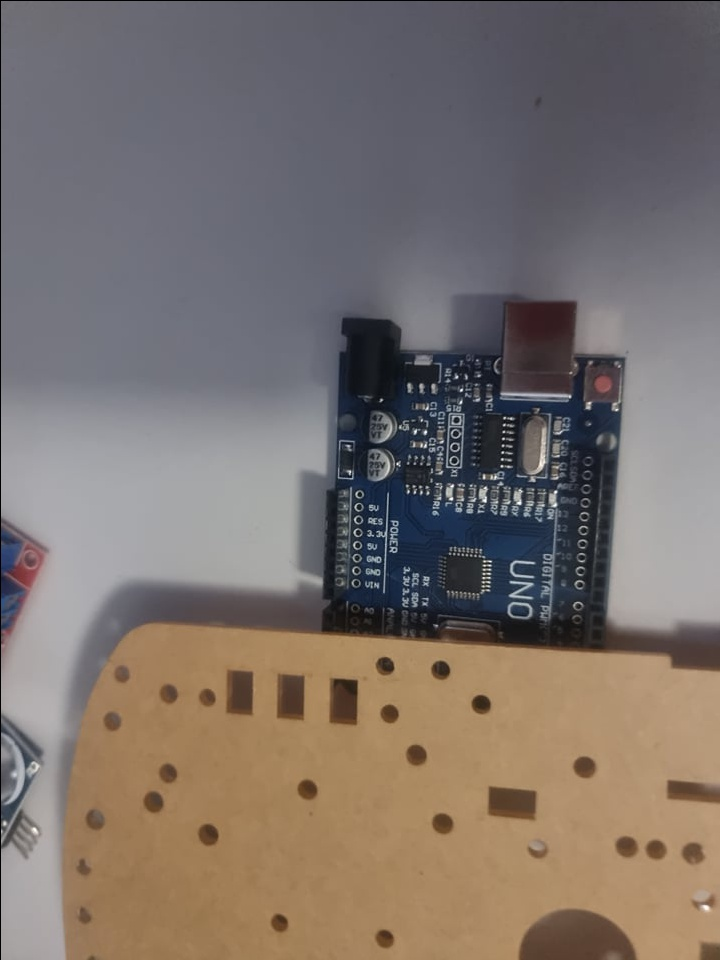UNO R3: (312, 298, 637, 643)
